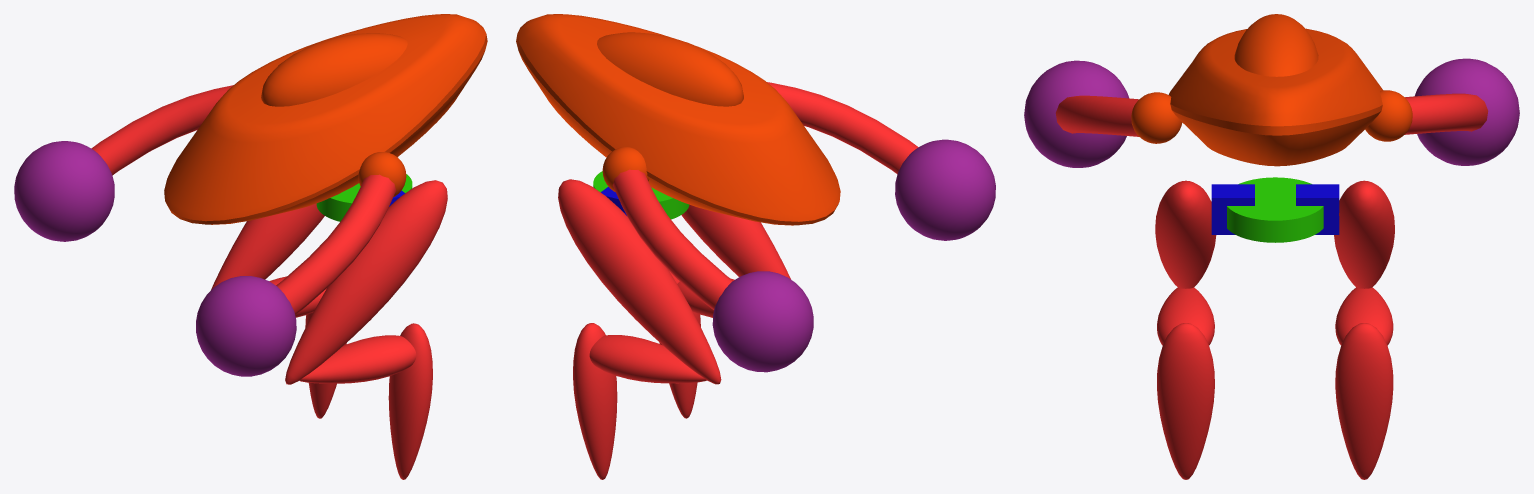
File: SM_ALL01.FBX
3 renders of one model, left to right at view 1: azimuth 30°, elevation 25°; view 2: azimuth 150°, elevation 25°; view 3: azimuth 270°, elevation 25°, orthographic. The views are drawn at different scales.
Parts seen in each view (by area): view 1: Cylinder016; view 2: Cylinder016; view 3: Cylinder016.
Part boxes in pixels (x1,y1,x2,y2): Cylinder016: [14, 14, 487, 479]; Cylinder016: [516, 14, 995, 479]; Cylinder016: [1024, 14, 1519, 479].
Size of the model in its own units: 135 by 142 by 144.
